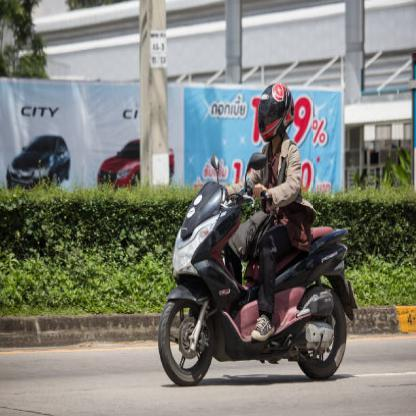Motorcycle: (156, 168, 354, 384)
